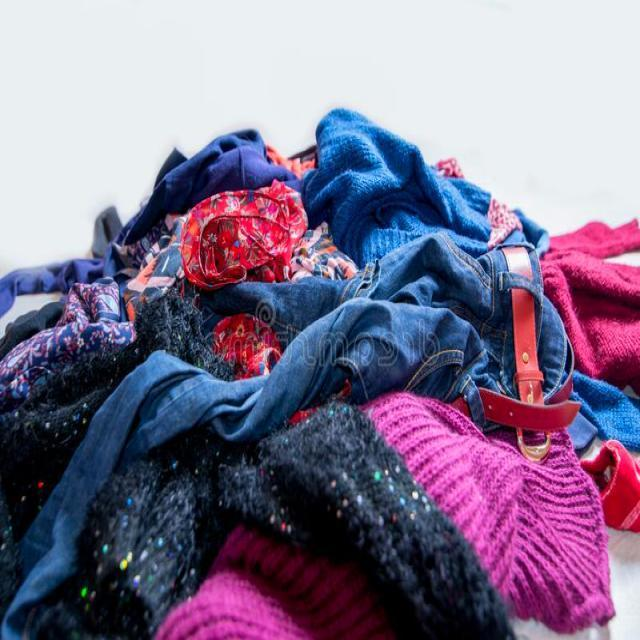clothes: (46, 255, 576, 621)
